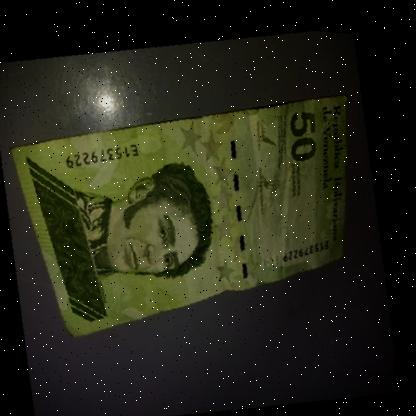fifty-front-vef: (0, 61, 371, 361)
